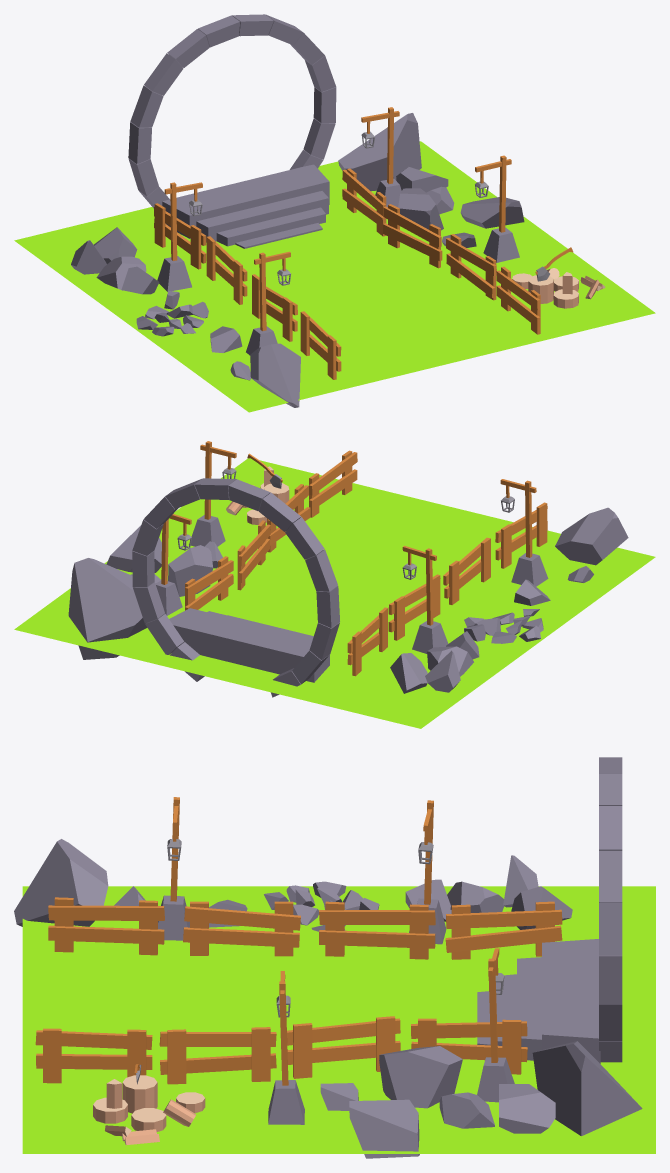
File: portal_scene.glb
The picture shows the model from 3 angles, top to bottom: view 1: azimuth 30°, elevation 25°; view 2: azimuth 150°, elevation 25°; view 3: azimuth 270°, elevation 25°; orthographic projection. The views are drawn at different scales.
Visible parts, largest first — view 1: ground, portal-stars, rock.006, rock.022, portal-stars.001, fance.005, fance.004, portal-stars.002, fance.002, fance.003, fance.001, fance.006 (+24 smaller); view 2: ground, portal-stars, rock.006, rock.022, fance.003, fance, fance.007, fance.001, fance.006, rock.005, fance.002, fance.005 (+28 smaller); view 3: ground, portal-stars, rock.006, fance, fance.007, fance.001, fance.004, rock.022, fance.002, fance.003, fance.005, rock.005 (+25 smaller).
Boxes of the visible parts, x1,y1,x2,y2 form: ground: [14, 141, 655, 412]; portal-stars: [162, 164, 329, 238]; rock.006: [338, 113, 421, 191]; rock.022: [250, 343, 300, 407]; portal-stars.001: [196, 191, 328, 242]; fance.005: [383, 204, 442, 268]; fance.004: [446, 234, 496, 300]; portal-stars.002: [216, 207, 325, 246]; fance.002: [154, 203, 206, 269]; fance.003: [496, 266, 540, 334]; fance.001: [206, 236, 247, 304]; fance.006: [342, 168, 386, 236]; ground: [14, 458, 655, 728]; portal-stars: [169, 608, 329, 682]; rock.006: [68, 558, 147, 659]; rock.022: [555, 507, 628, 565]; fance.003: [309, 450, 357, 517]; fance: [443, 537, 490, 604]; fance.007: [495, 502, 547, 568]; fance.001: [388, 574, 440, 640]; fance.006: [185, 556, 233, 610]; rock.005: [168, 545, 213, 596]; fance.002: [347, 607, 387, 676]; fance.005: [237, 520, 270, 590]; ground: [22, 886, 655, 1153]; portal-stars: [542, 939, 600, 1063]; rock.006: [532, 1041, 642, 1136]; fance: [183, 901, 300, 956]; fance.007: [48, 897, 164, 955]; fance.001: [319, 901, 435, 959]; fance.004: [159, 1027, 276, 1084]; rock.022: [14, 839, 108, 926]; fance.002: [445, 901, 562, 959]; fance.003: [35, 1028, 152, 1083]; fance.005: [287, 1016, 400, 1078]; rock.005: [379, 1046, 462, 1108].
Size of the model in its own units: 8 by 3.9 by 8.11.
